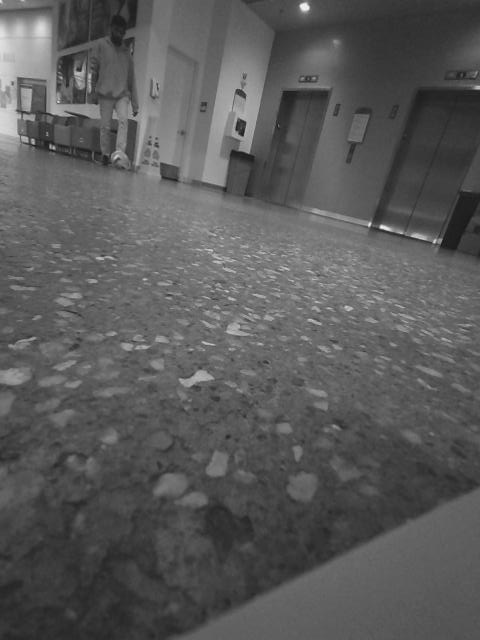ball: (292, 307, 373, 388)
